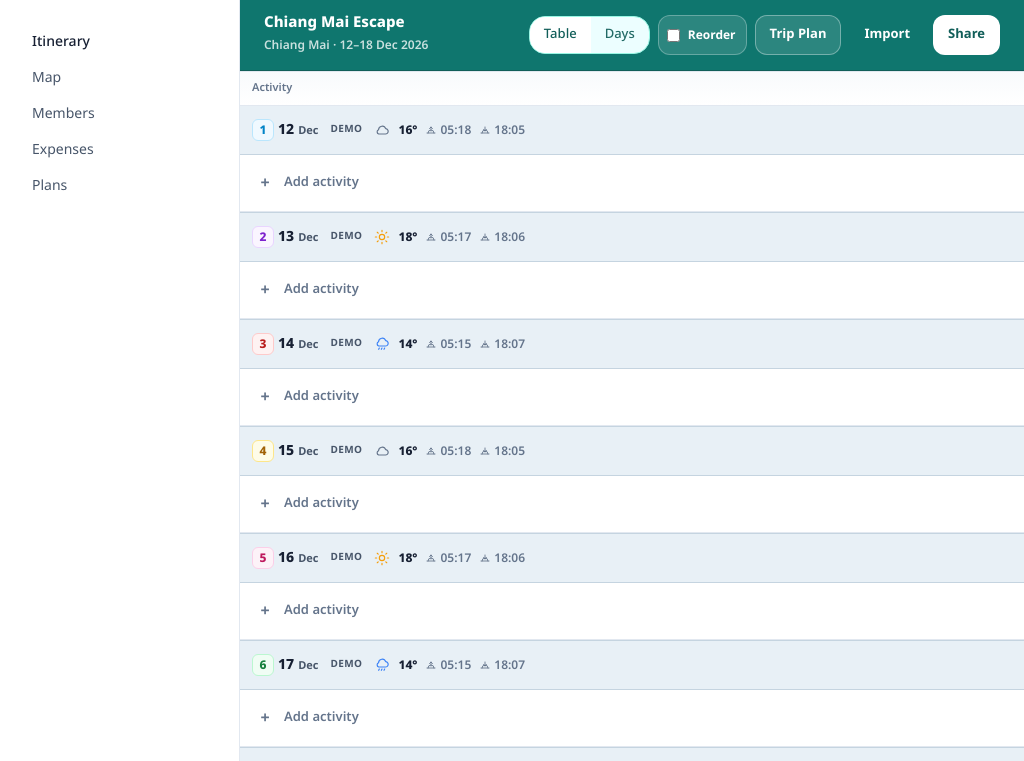
Test: TripWorkspaceShell Trip Plan panel honesty › Trip Plan panel stays collapsed until toggle expands; toggle only expands/collapses the local panel
Expected: the text "Chiang Mai Escape" is shown, [264,11,405,34]
Click the button "Trip Plan": [798, 35] box [755,15,842,55]
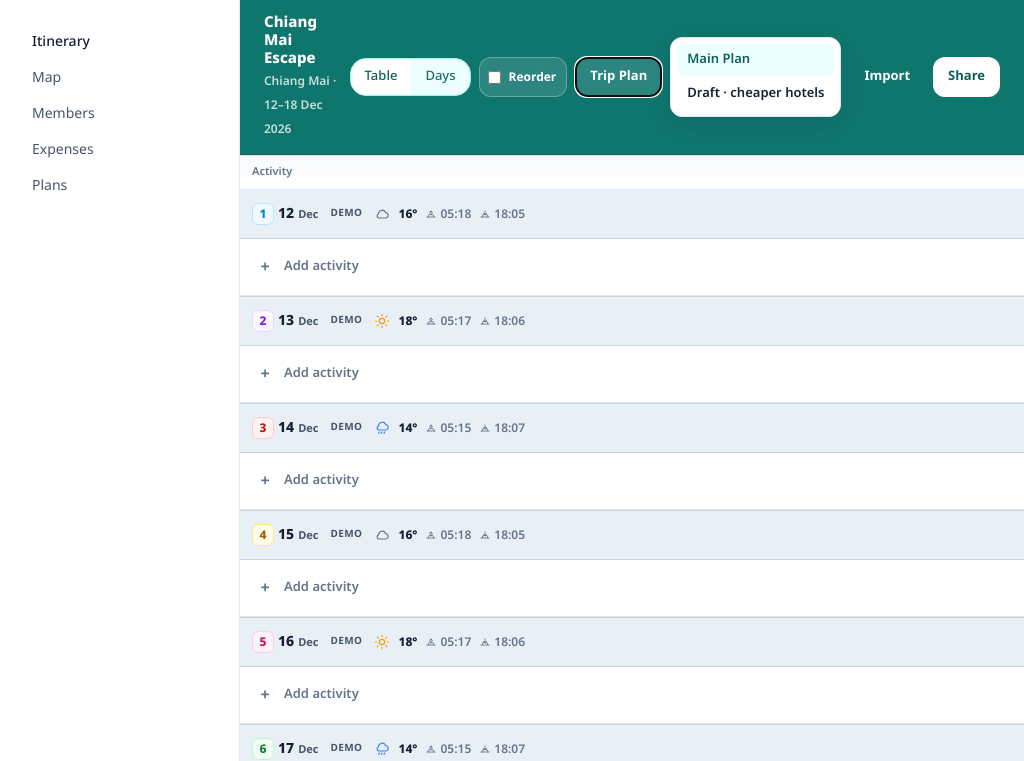
Result: the button "Trip Plan" is expanded
// Collapse again — local panel only.
Click the button "Trip Plan": [619, 77] box [575,57,662,97]
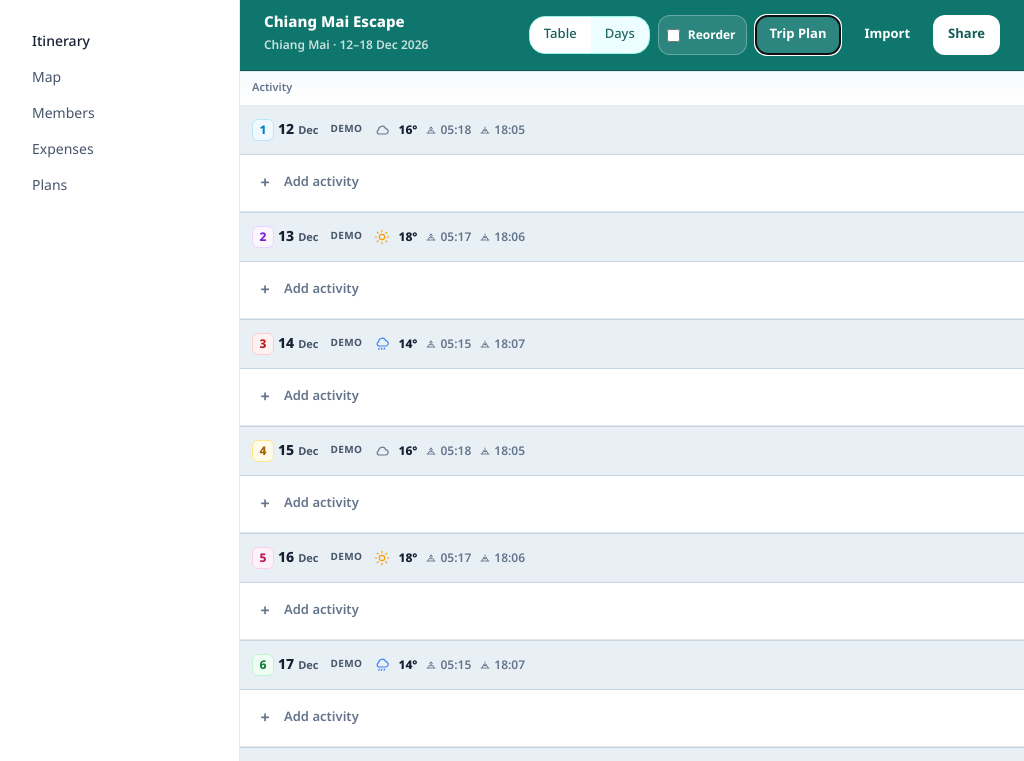
Result: the button "Trip Plan" is collapsed at [755,15,842,55]
